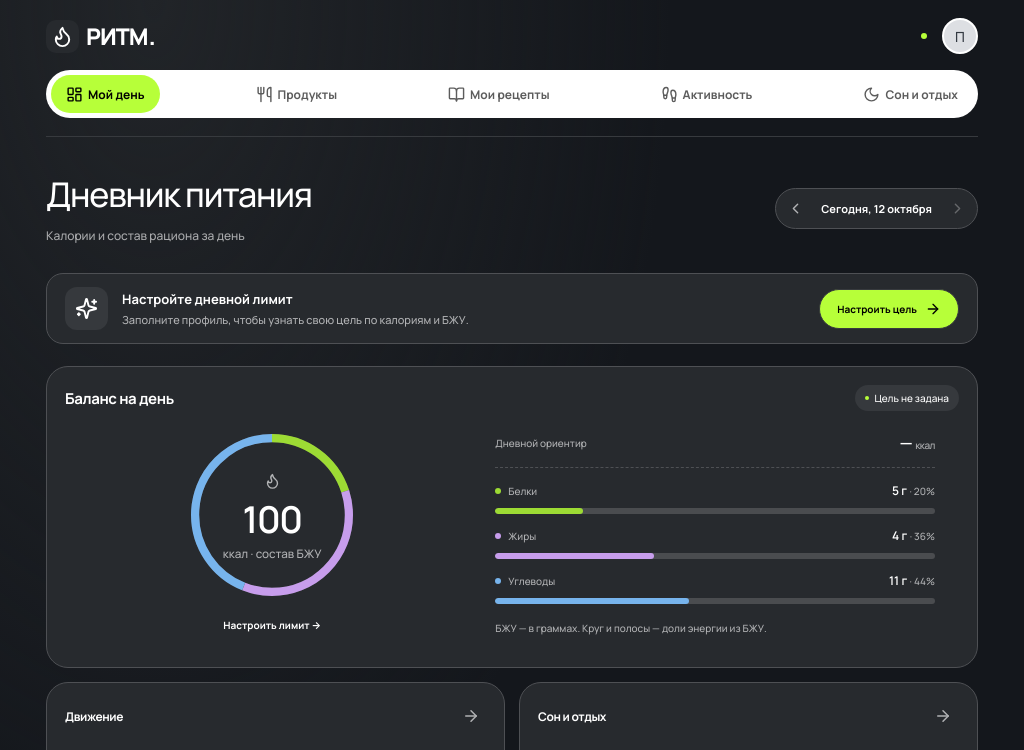
Test case: Activity navigation › opens the activity form without routing an unconfigured profile into settings
The width and height of the screenshot is (1024, 750).
Click the button "Активность": {"x": 706, "y": 94} [646,75,767,113]
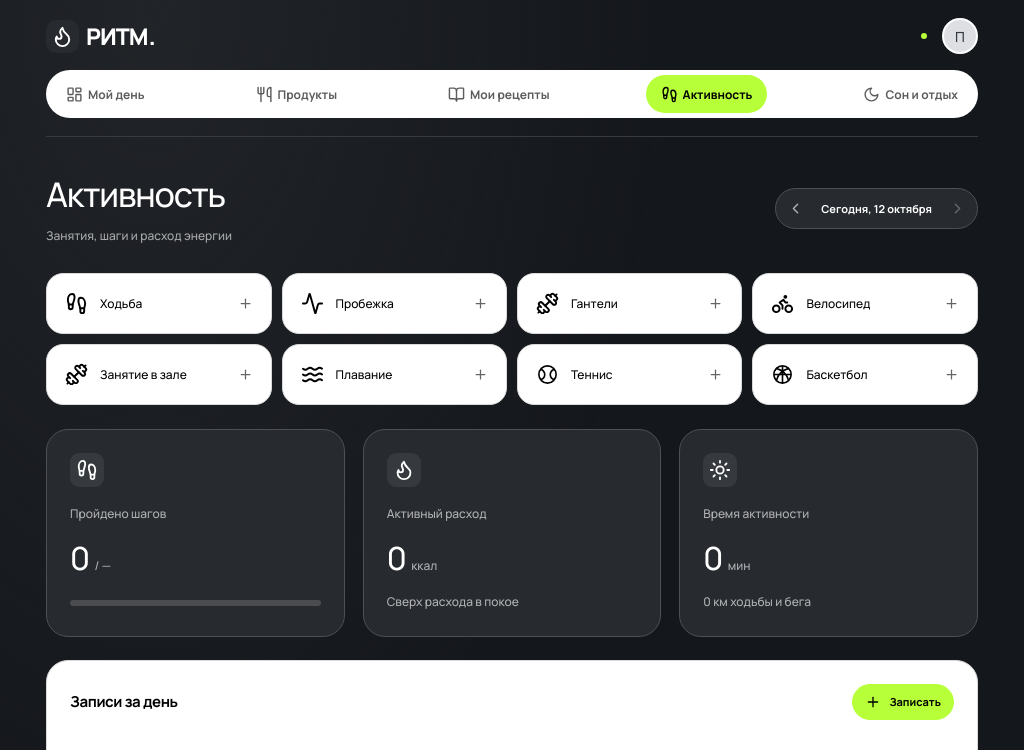
Click the button "Записать": {"x": 903, "y": 702} [852,684,954,720]
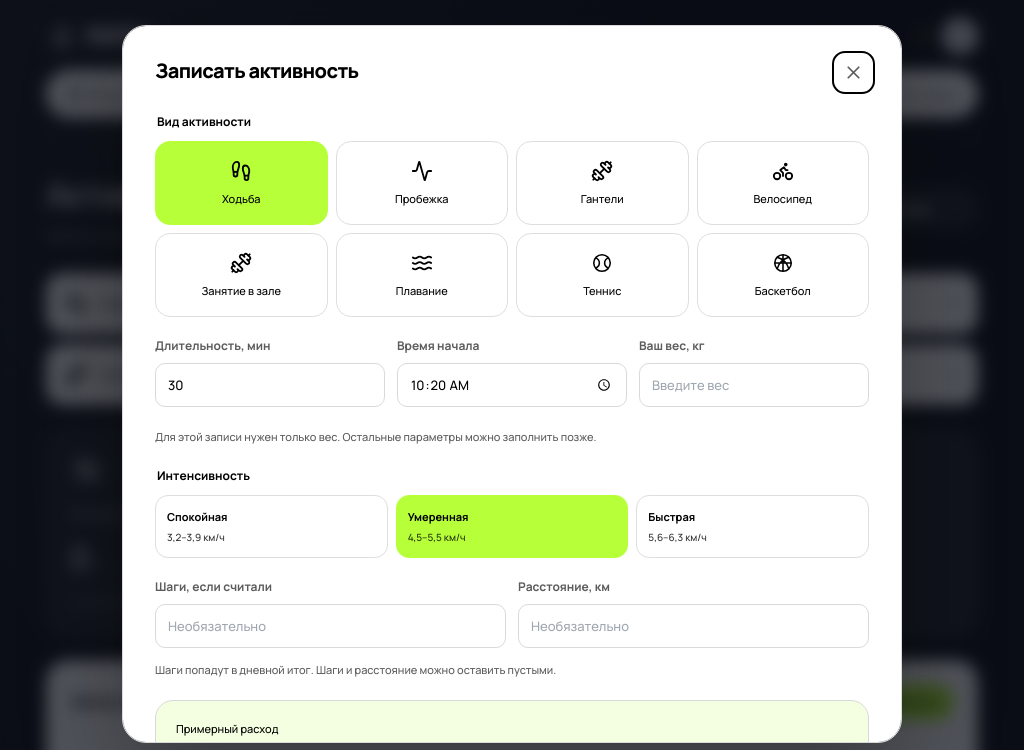
Now the heading "Активность" is shown, box [46,171,232,219]
Now the dialog is shown
Now the heading "Записать активность" is shown, box [155,56,358,86]
